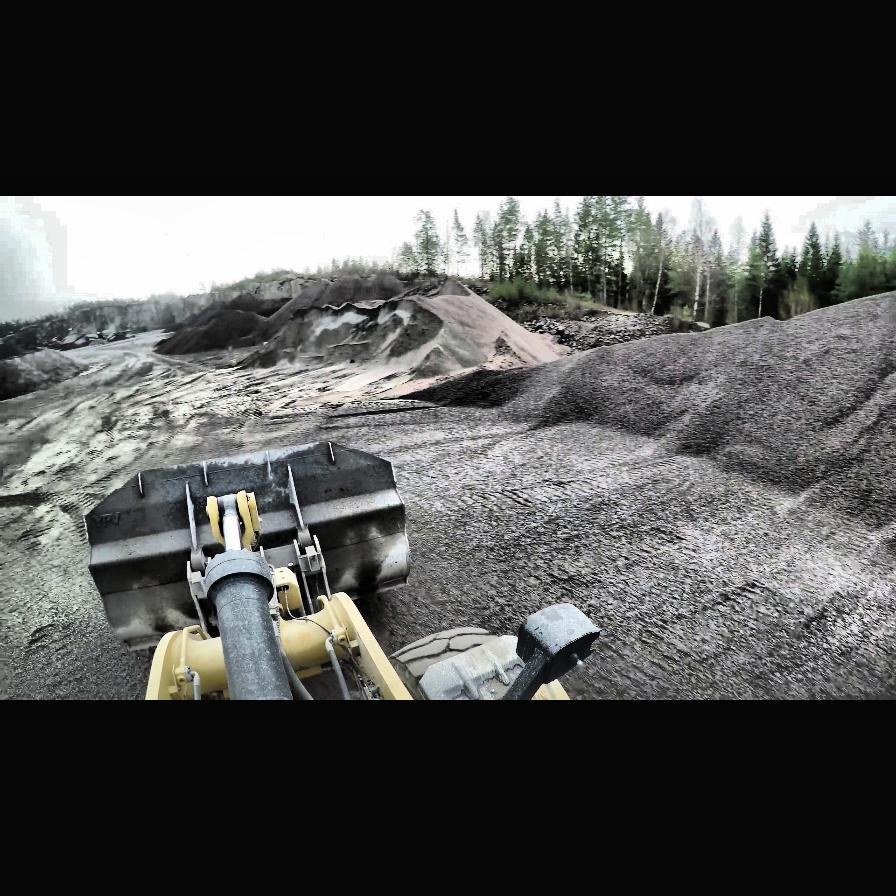anchor: (206, 490, 256, 552)
pile of gravel: (423, 280, 888, 490), (158, 272, 536, 396), (154, 290, 292, 354), (260, 272, 446, 314), (1, 346, 89, 404), (0, 340, 28, 360)
